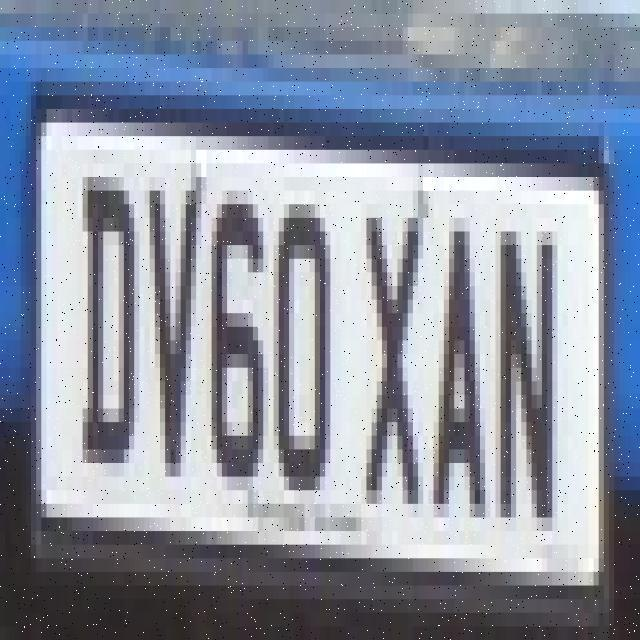LicensePlate: (27, 68, 621, 597)
